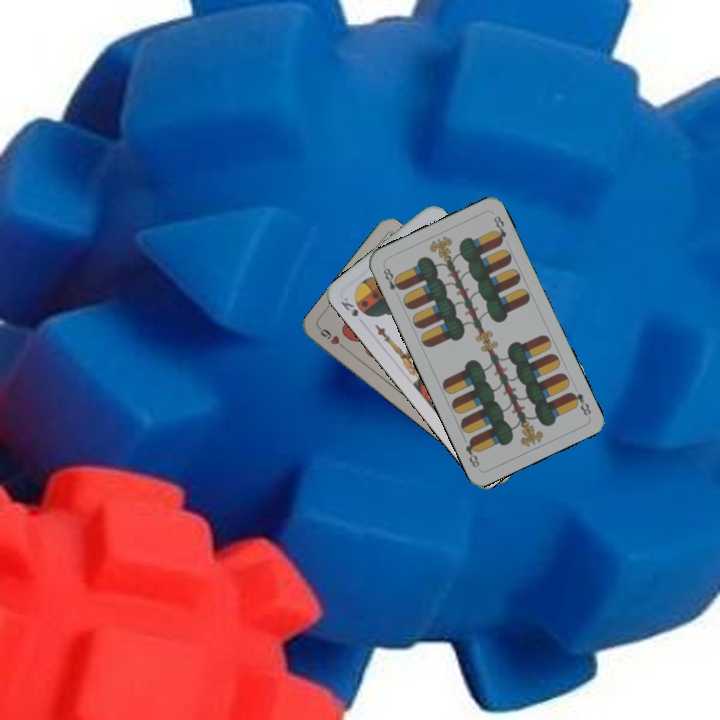E8: (565, 388, 594, 418), (379, 264, 405, 294)
H9: (315, 323, 350, 353)
SK: (336, 293, 361, 319)
